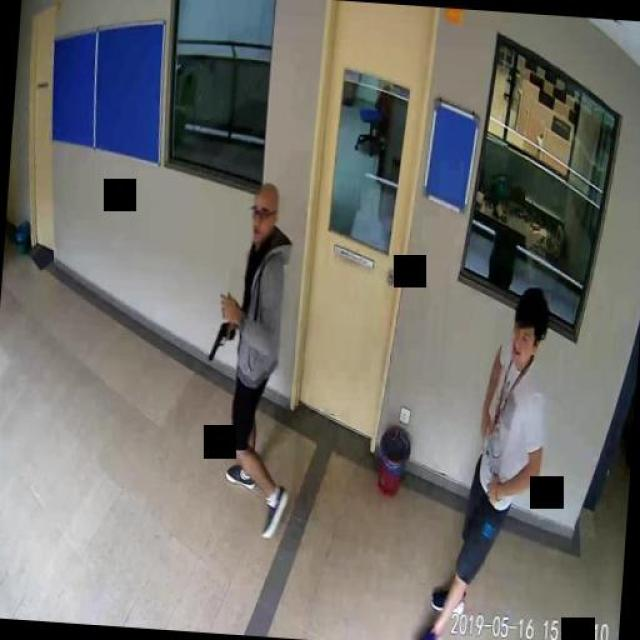gun: (207, 320, 235, 360)
